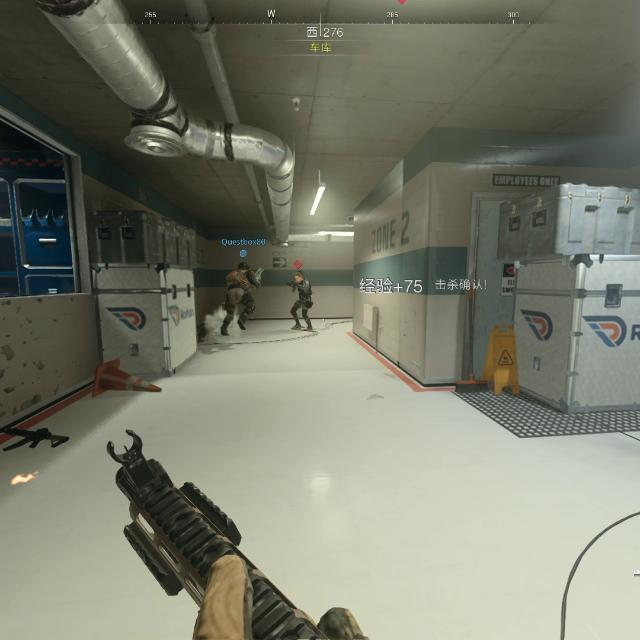MW2_body: (290, 259, 314, 330)
